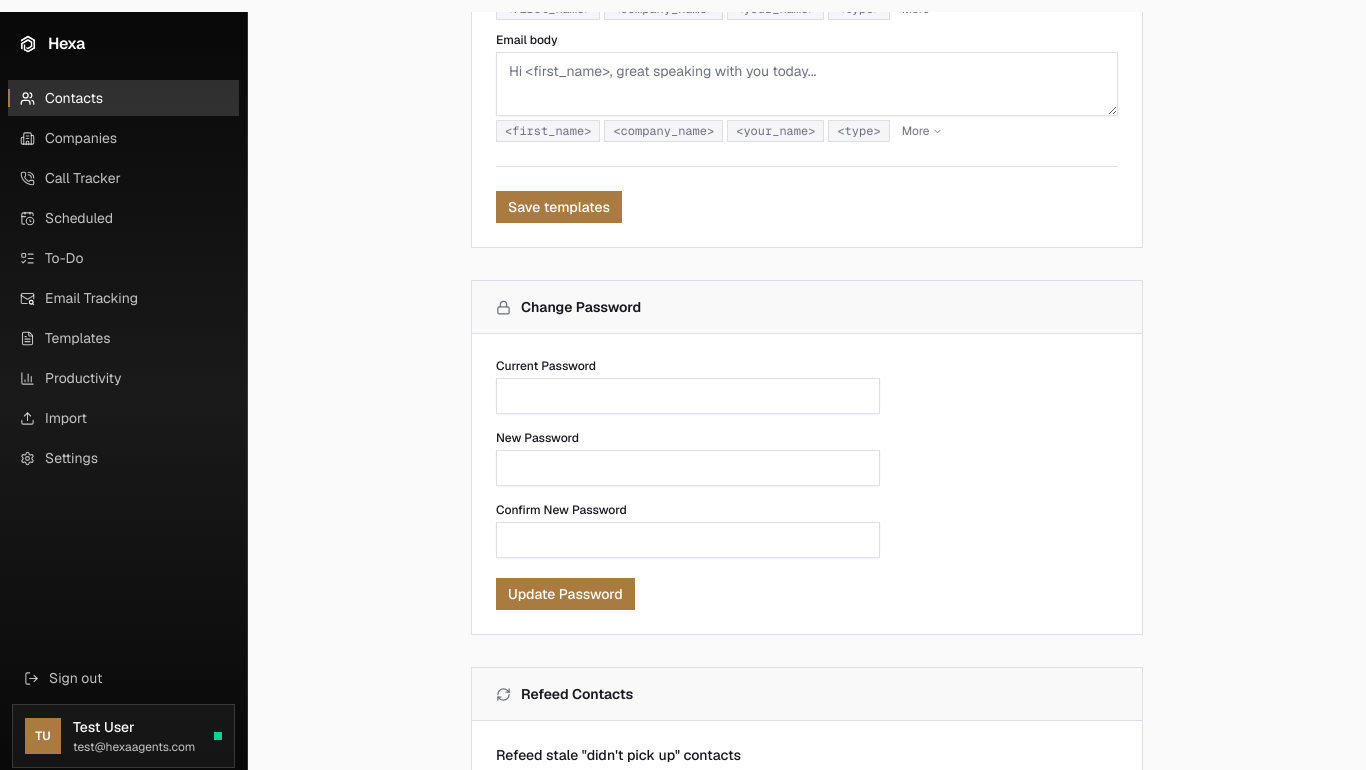
Test case: SettingsPage › validates password match
(page scrolled)
Type "old" into the password field labelled "Current Password" at (688, 396), box [496,378,880,414]
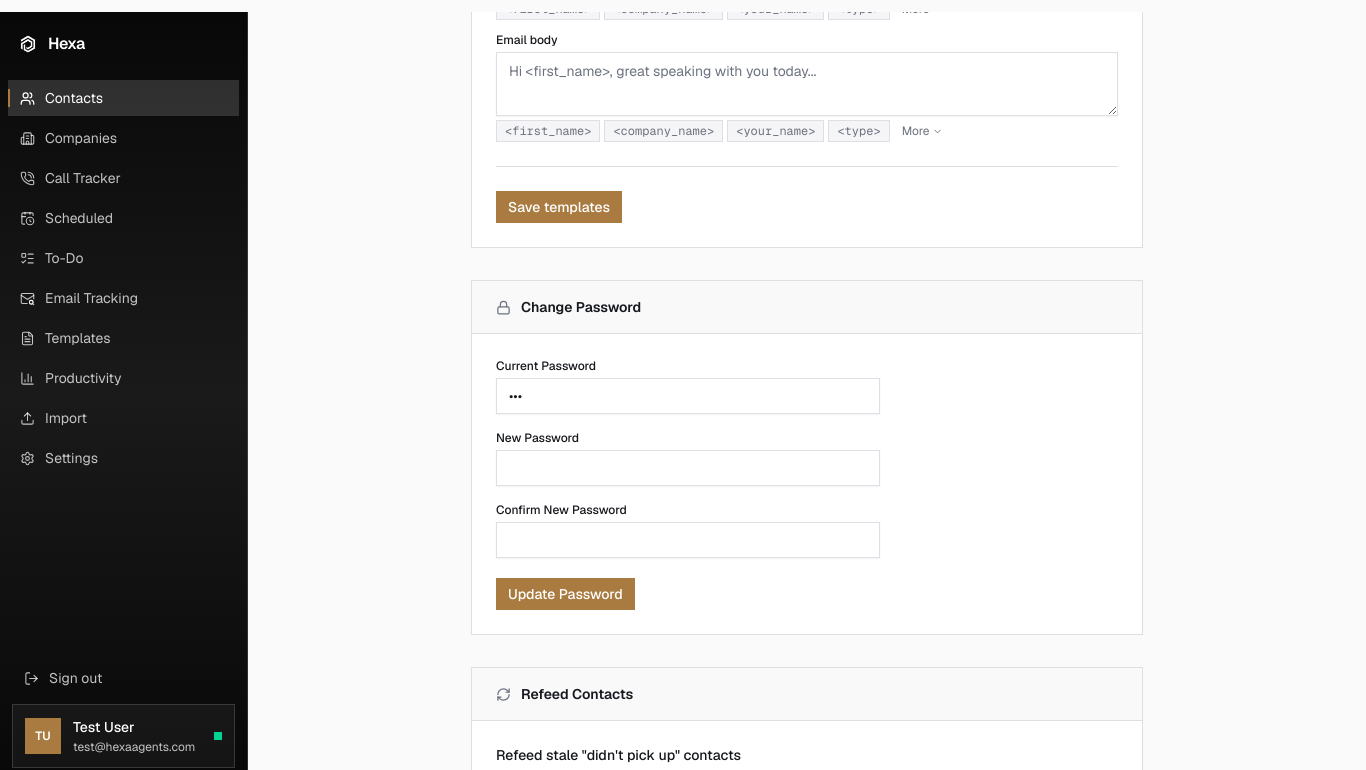
Type "newpass" into the password field labelled "New Password" at (688, 468), box [496,450,880,486]
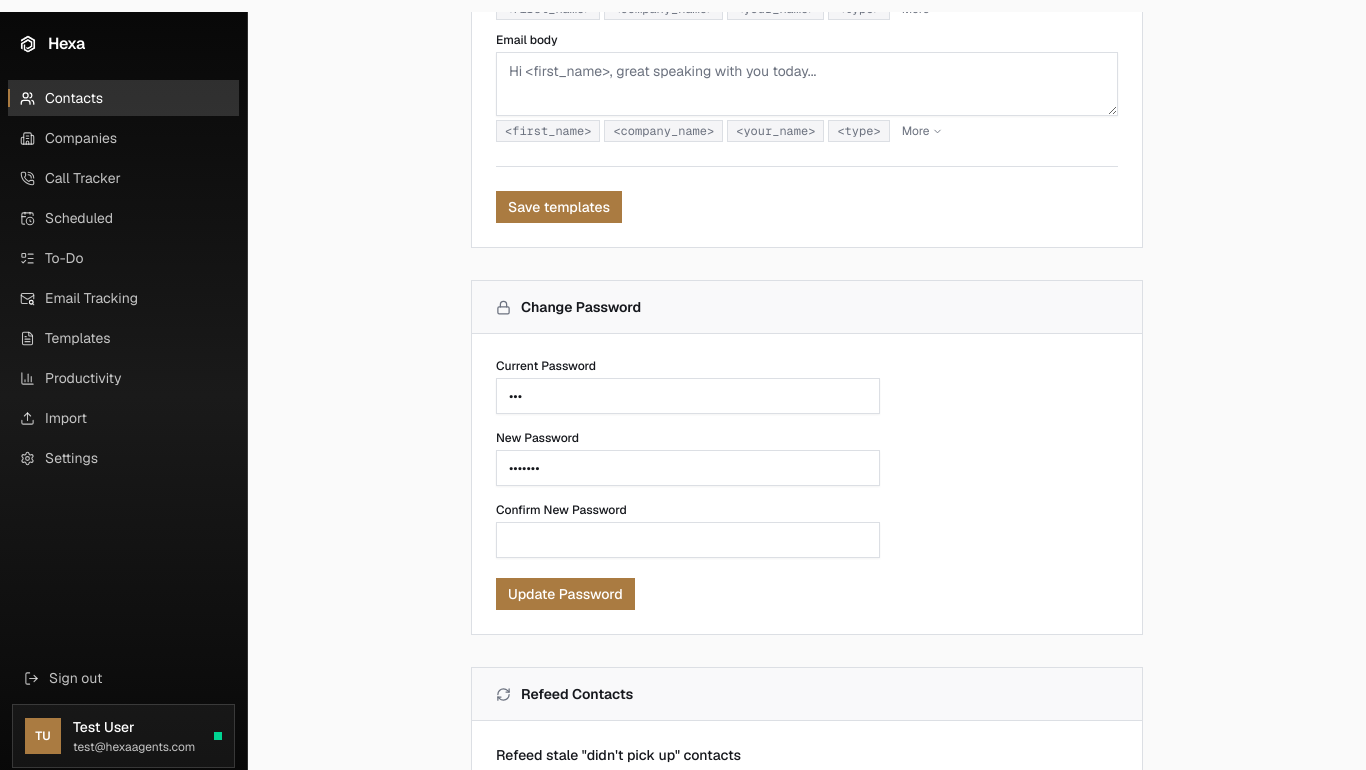
Type "different" into the password field labelled "Confirm New Password" at (688, 540), box [496,522,880,558]
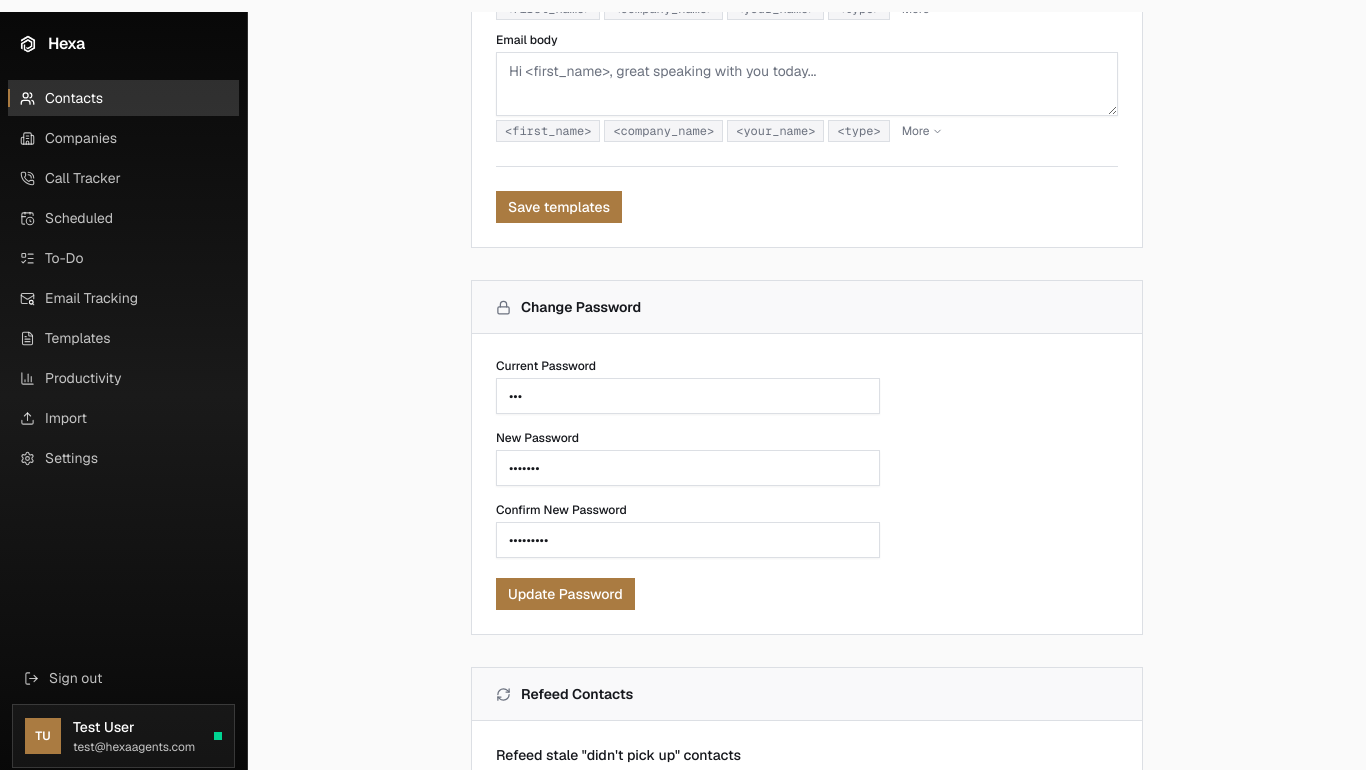
Click the button "Update Password" at (565, 594), box [496,578,635,610]
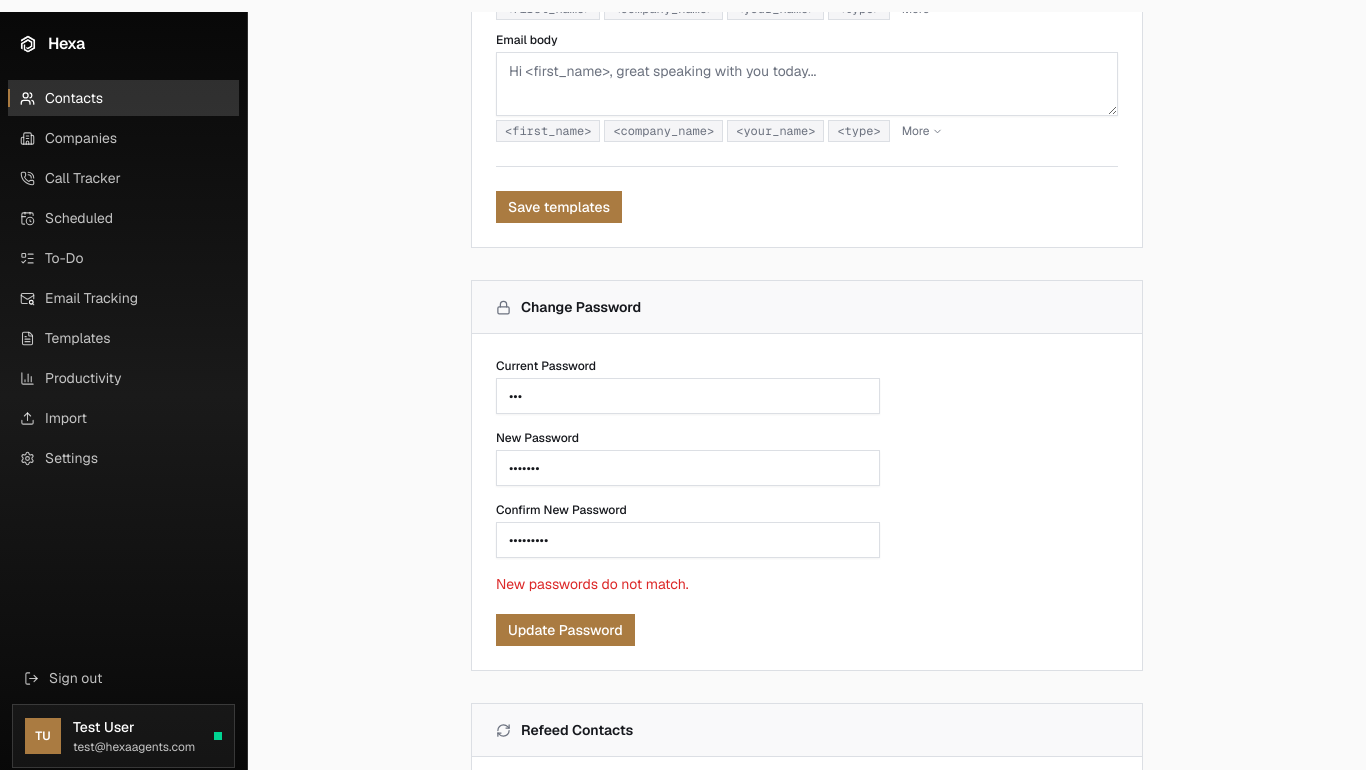
expect the text "New passwords do not match." is shown: met, box [496,575,689,593]
